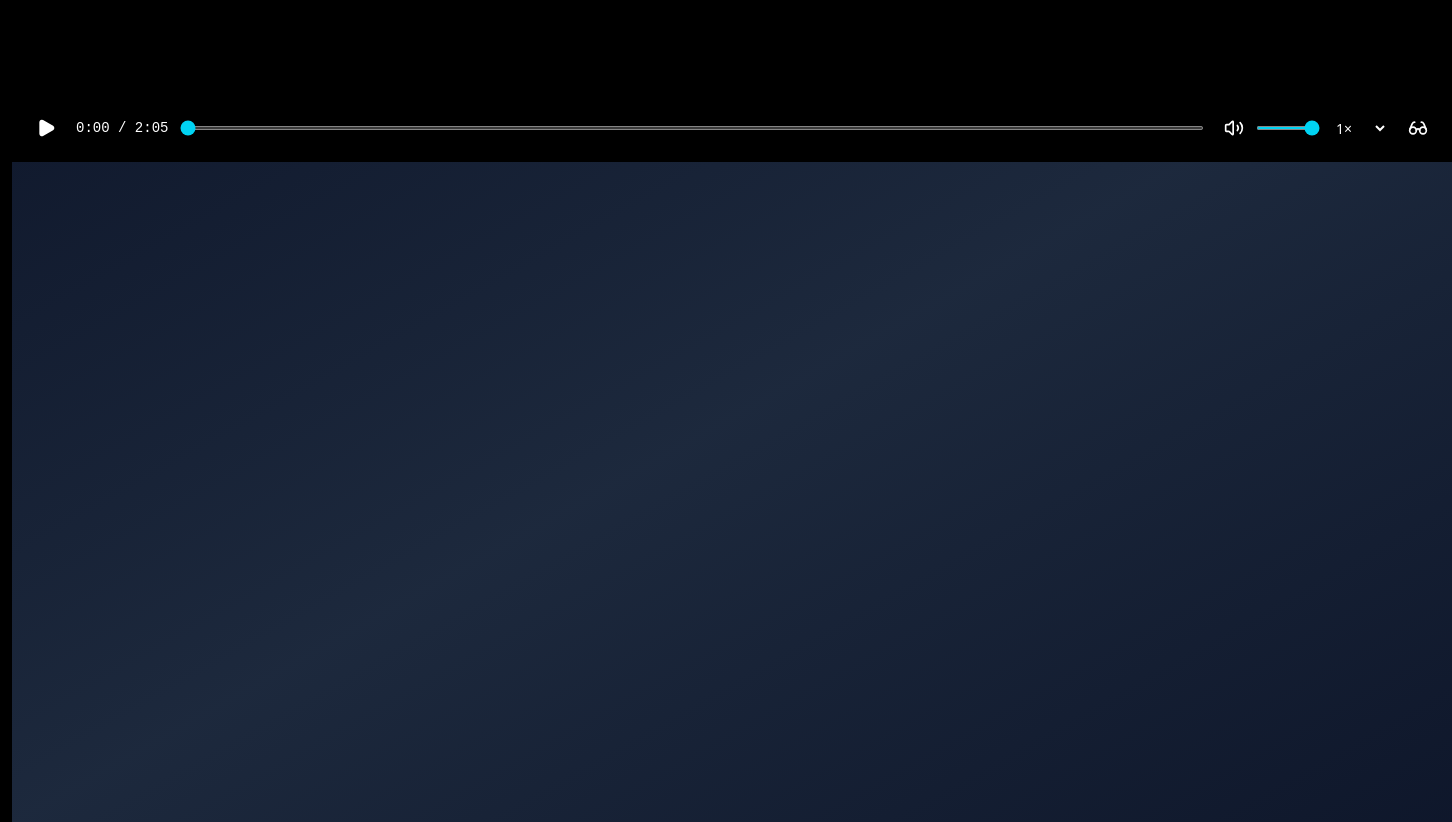
VRVideoPlayer - the headset › enters a session on the renderer, starts playback, and leaves it again
Click the button titled "Watch in the headset" at (1418, 128), box [1400,110,1436,146]
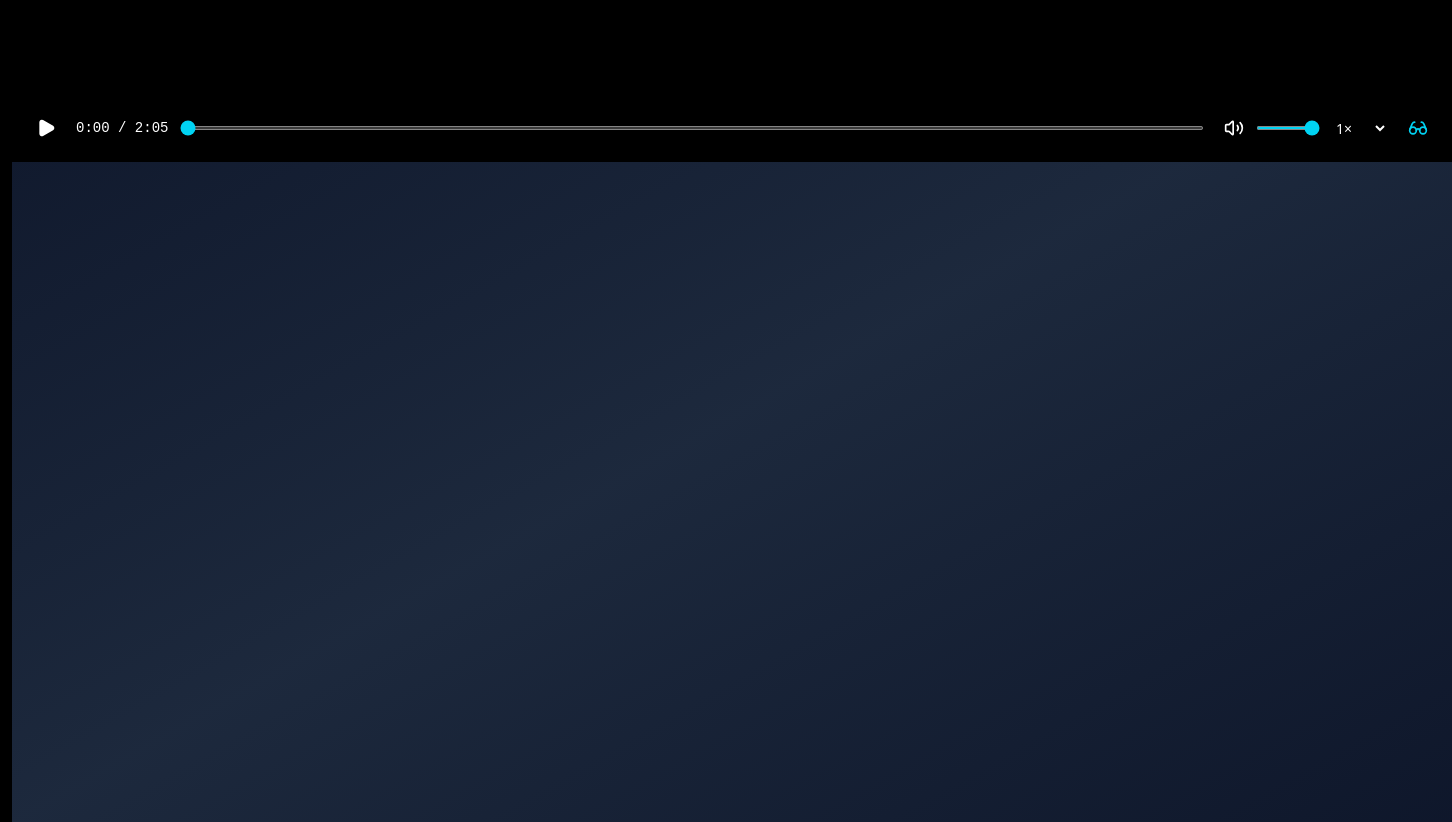
Check: the button titled "Leave the headset" has class "text-cyan-400"
Click the button titled "Leave the headset" at (1418, 128), box [1400,110,1436,146]
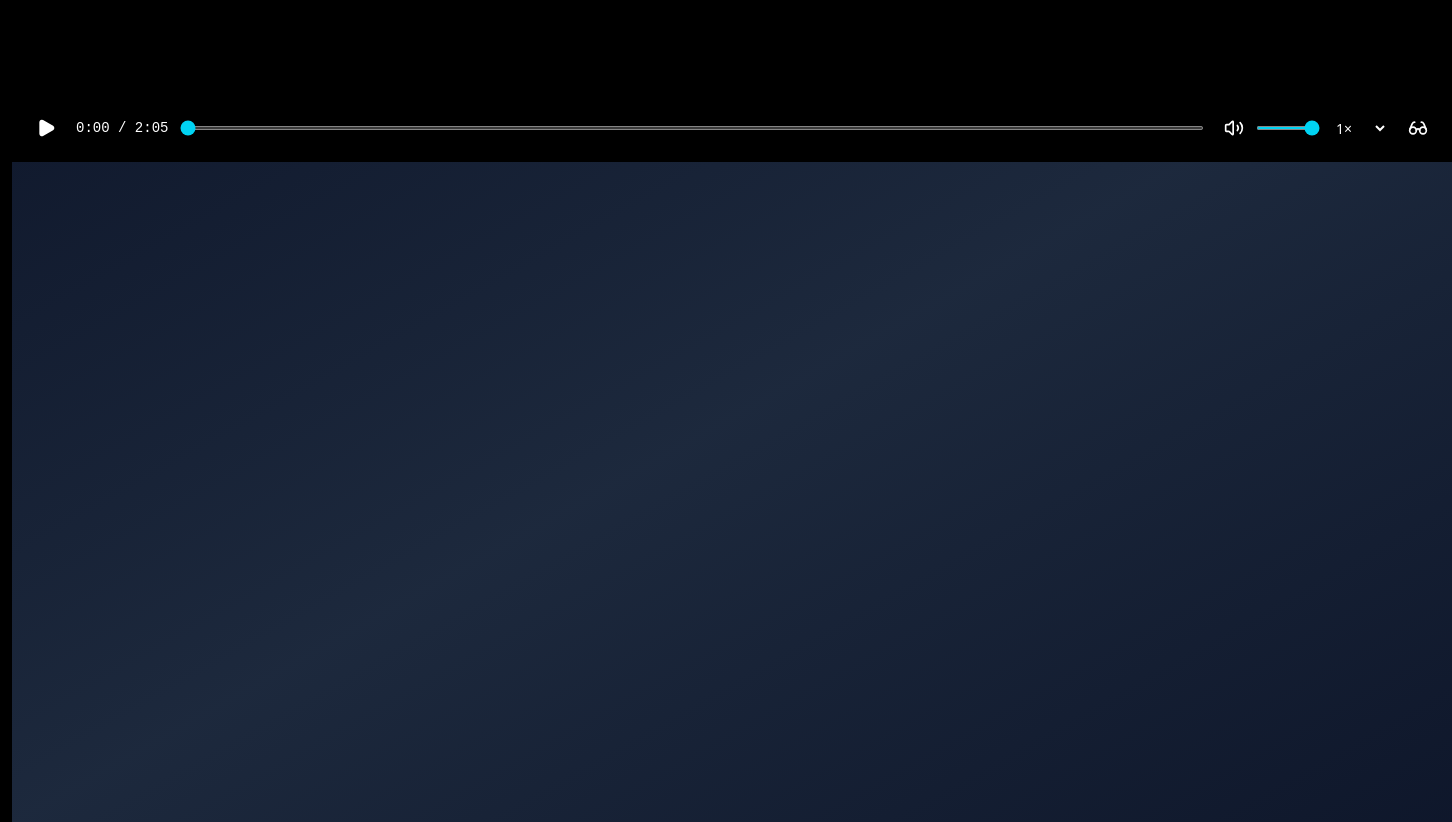
Check: the button titled "Watch in the headset" is shown, box [1400,110,1436,146]
